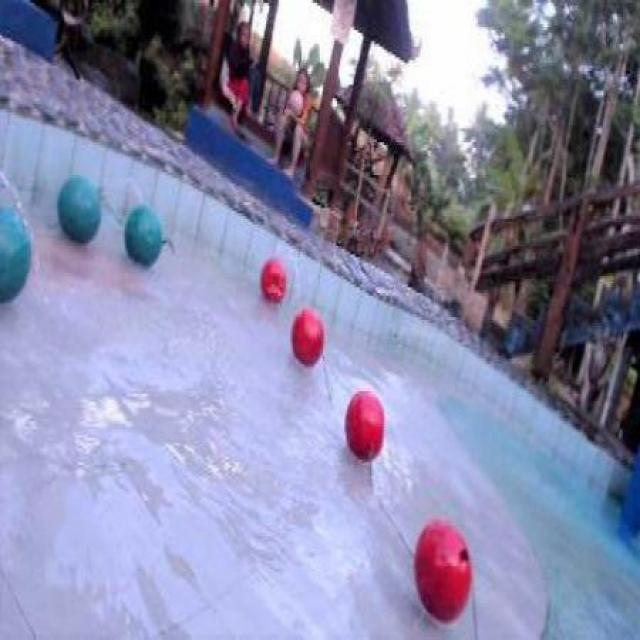buoy: (412, 518, 471, 625), (0, 204, 31, 305), (343, 389, 384, 464), (57, 176, 101, 245), (124, 204, 162, 267), (290, 306, 326, 367), (260, 257, 285, 301)
